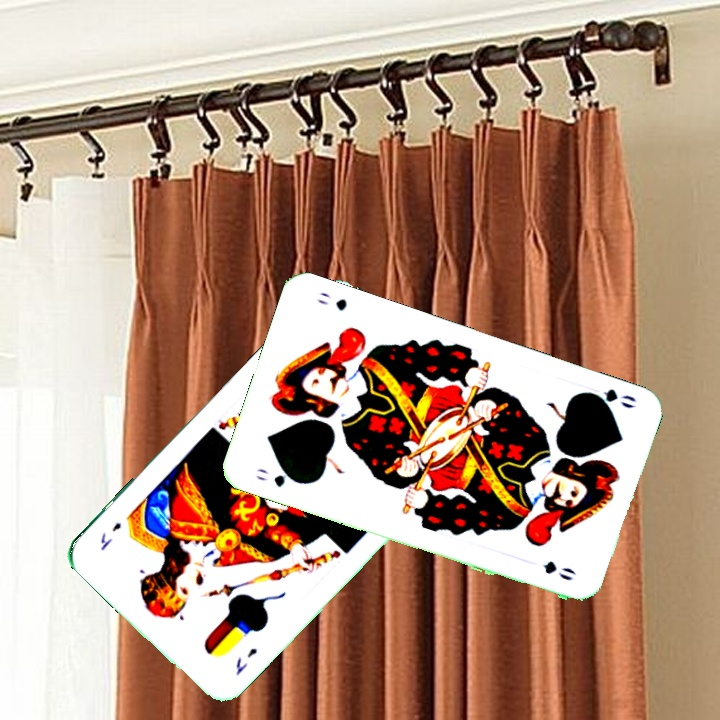EK: (231, 644, 260, 679)
GO: (580, 385, 639, 411), (252, 464, 305, 490)
